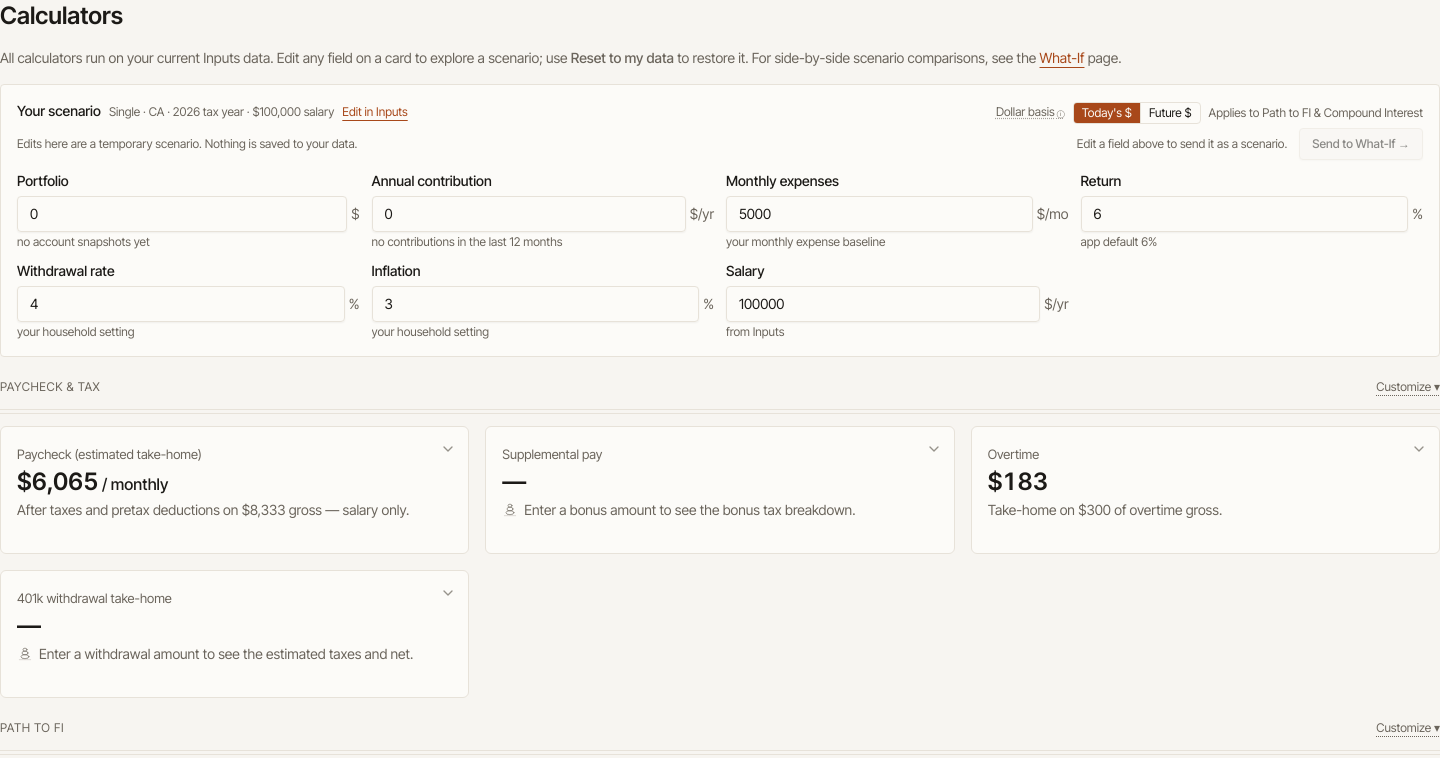
Test: CalculatorsLayout › UPGRADE PATH: a stored v1.5.0 10-id layout still renders all 12 cards, both new ones included
This screenshot has width=1440, height=758.
Check: the element with test id "calc-card-paycheck" is shown, box [0,426,469,554]
Click the button with aria-label "customize path to fi".
click(1408, 728)  # box [1376,720,1439,736]
(page scrolled)
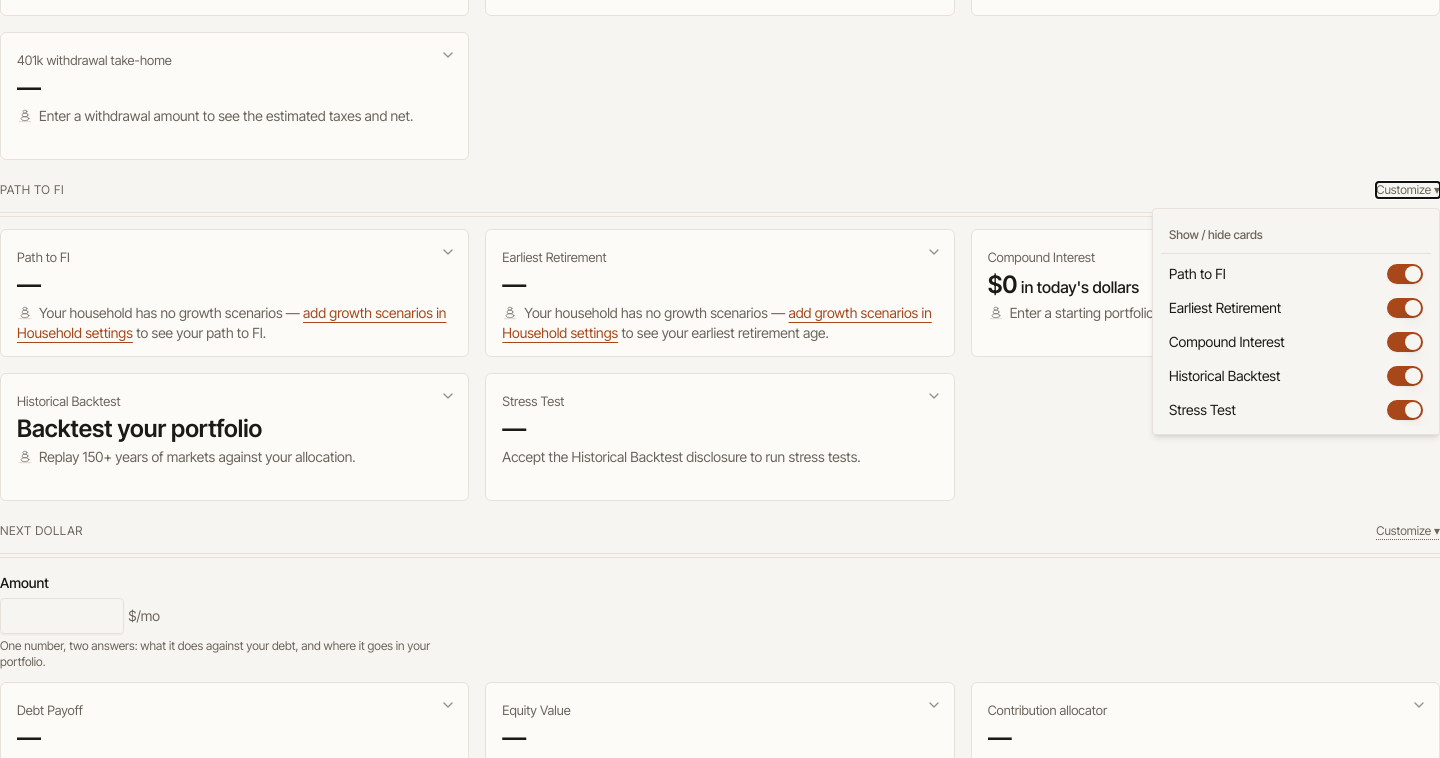
Check: the switch named "Earliest Retirement" is checked, box [1387,298,1423,318]
Check: the switch named "Stress Test" is checked, box [1387,400,1423,420]
